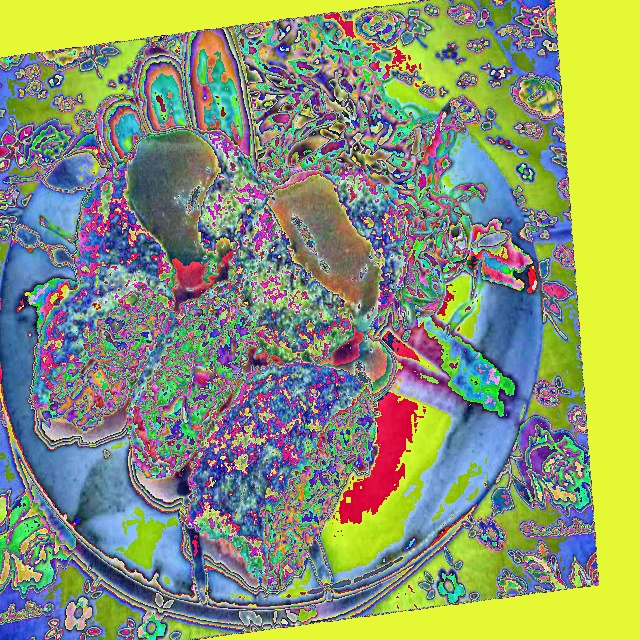background: (30, 15, 486, 591)
